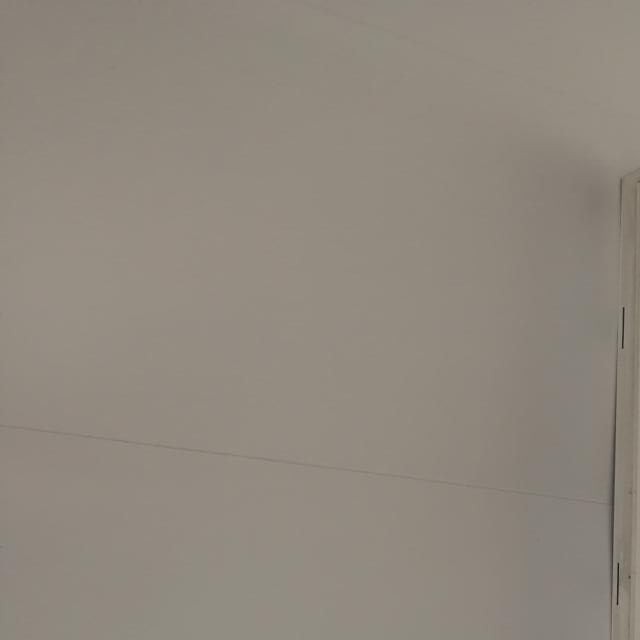fluorescent tube: (604, 148, 639, 640)
